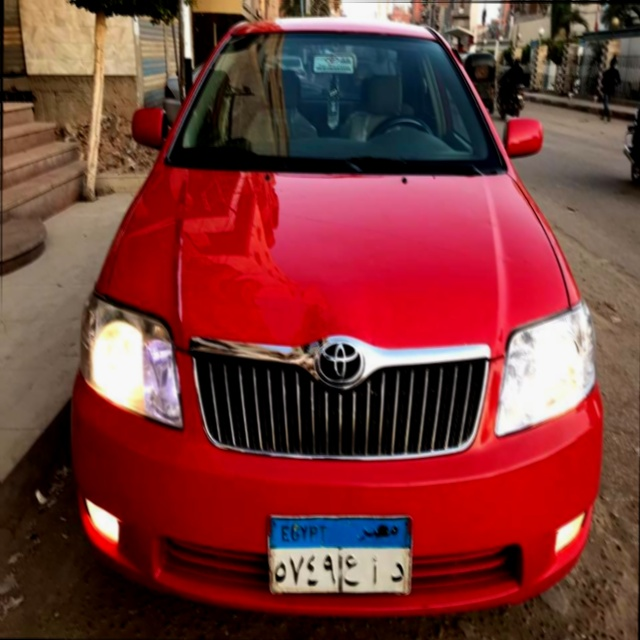License Plate: (262, 509, 417, 599)
